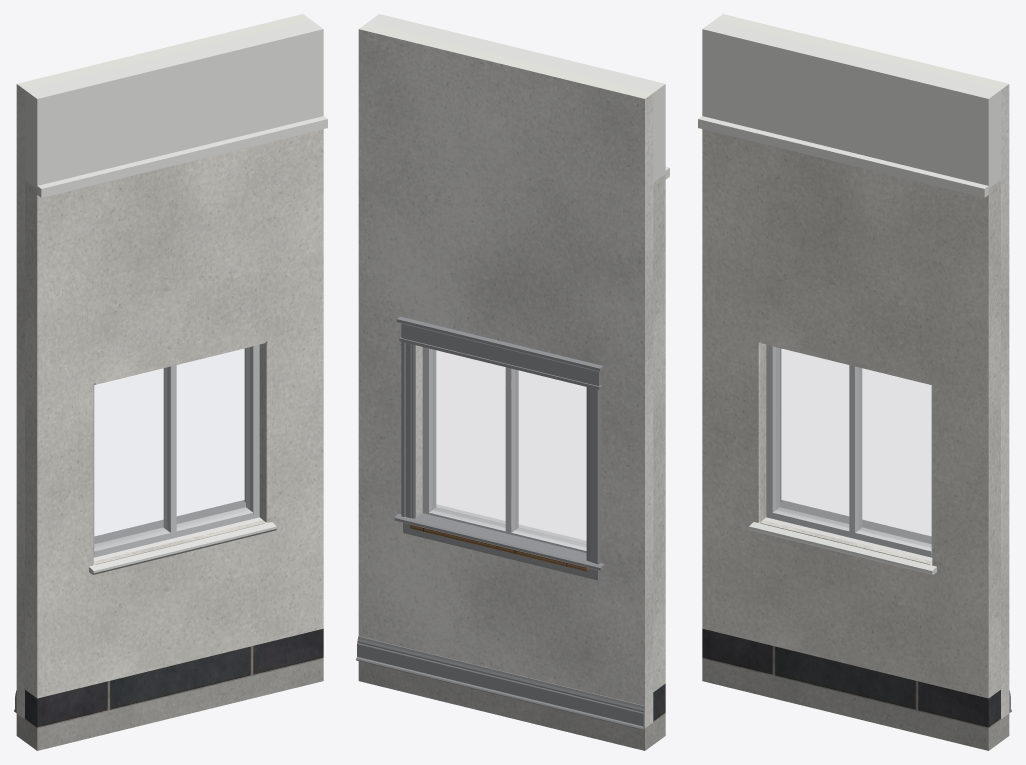
File: s_win_s.glb
The picture shows the model from 3 angles, left to right: view 1: azimuth 30°, elevation 25°; view 2: azimuth 150°, elevation 25°; view 3: azimuth 330°, elevation 25°; orthographic projection.
Visible parts, largest first — view 1: s_win_s_render, s_win_s_panel_w, folha_glass, s_win_s_block_d, s_win_s_plaster, s_win_s_frame, s_win_s_concrete, s_win_s_coping, molduras; view 2: s_win_s_plaster, folha_glass, molduras, s_win_s_render, s_win_s_concrete, s_win_s_frame, s_win_s_panel_w, s_win_s_wood; view 3: s_win_s_render, s_win_s_panel_w, folha_glass, s_win_s_block_d, s_win_s_plaster, s_win_s_frame, s_win_s_concrete, s_win_s_coping, molduras.
Part boxes in pixels (x1,y1,x2,y2): s_win_s_render: [25, 129, 323, 698]; s_win_s_panel_w: [25, 20, 327, 197]; folha_glass: [95, 348, 249, 546]; s_win_s_block_d: [25, 628, 323, 728]; s_win_s_plaster: [16, 14, 310, 718]; s_win_s_frame: [93, 344, 259, 557]; s_win_s_concrete: [16, 658, 323, 750]; s_win_s_coping: [89, 517, 276, 574]; molduras: [14, 348, 245, 712]; s_win_s_plaster: [358, 23, 653, 728]; folha_glass: [433, 350, 585, 546]; molduras: [356, 316, 644, 730]; s_win_s_render: [653, 174, 665, 691]; s_win_s_concrete: [358, 661, 665, 750]; s_win_s_frame: [422, 347, 586, 552]; s_win_s_panel_w: [367, 14, 669, 182]; s_win_s_wood: [410, 524, 589, 571]; s_win_s_render: [702, 129, 1000, 698]; s_win_s_panel_w: [698, 20, 1000, 197]; folha_glass: [776, 348, 930, 546]; s_win_s_block_d: [702, 628, 1000, 728]; s_win_s_plaster: [715, 14, 1009, 718]; s_win_s_frame: [766, 344, 932, 557]; s_win_s_concrete: [702, 658, 1009, 750]; s_win_s_coping: [749, 517, 936, 574]; molduras: [780, 348, 1011, 712].
Size of the model in its own units: 2 by 4.35 by 0.36.
Materials: 10 (5 with a texture image).
